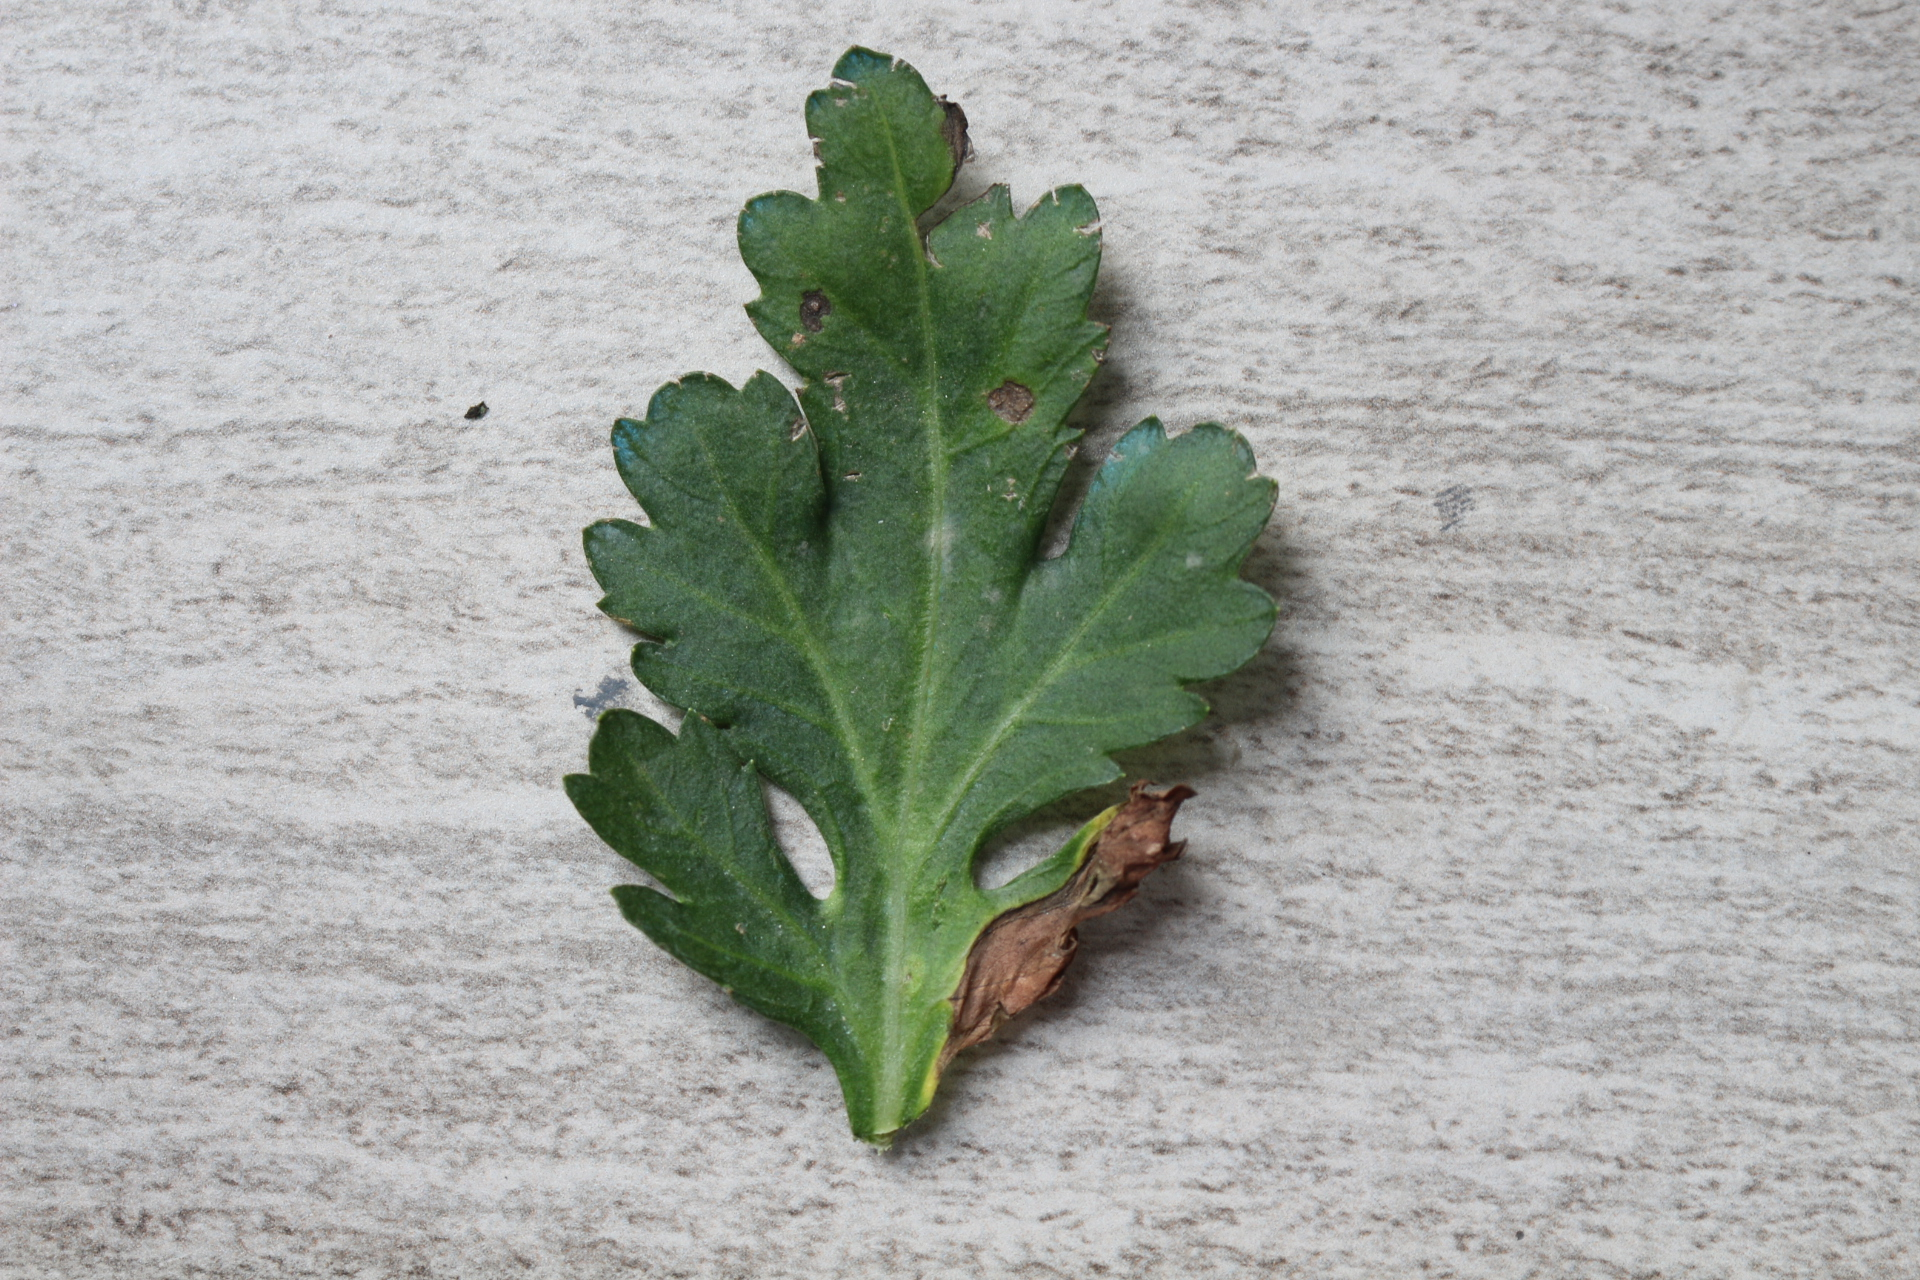namden: (981, 374, 1039, 431), (799, 289, 834, 334)
